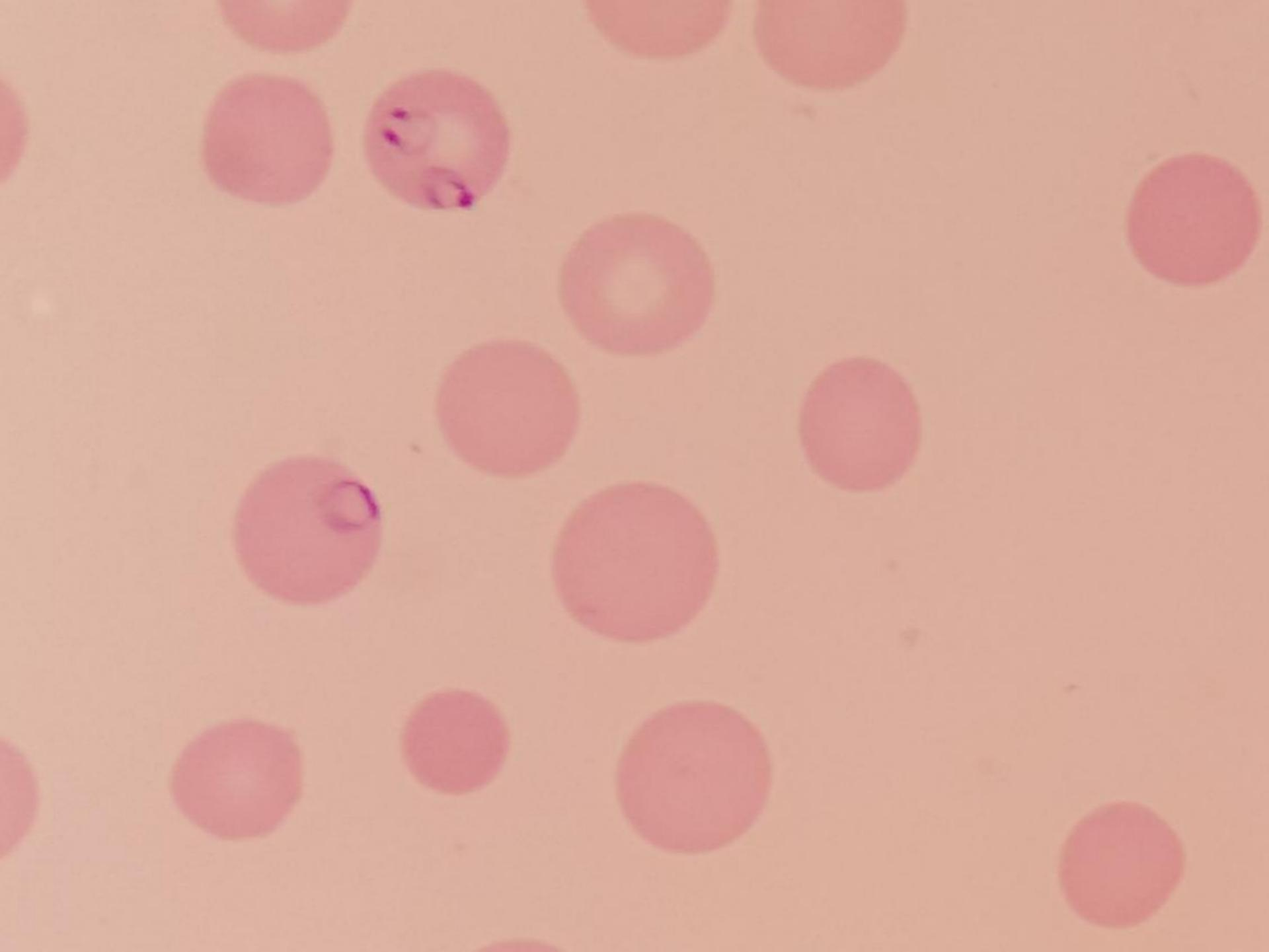Infected: (227, 459, 389, 620), (361, 65, 514, 219)
Uninfected: (551, 483, 720, 639), (560, 212, 717, 364), (615, 705, 768, 855), (438, 340, 585, 485), (194, 82, 338, 215), (1058, 794, 1187, 933), (167, 712, 307, 836), (1124, 155, 1260, 281), (800, 355, 925, 492), (745, 0, 906, 103), (397, 686, 513, 795)
